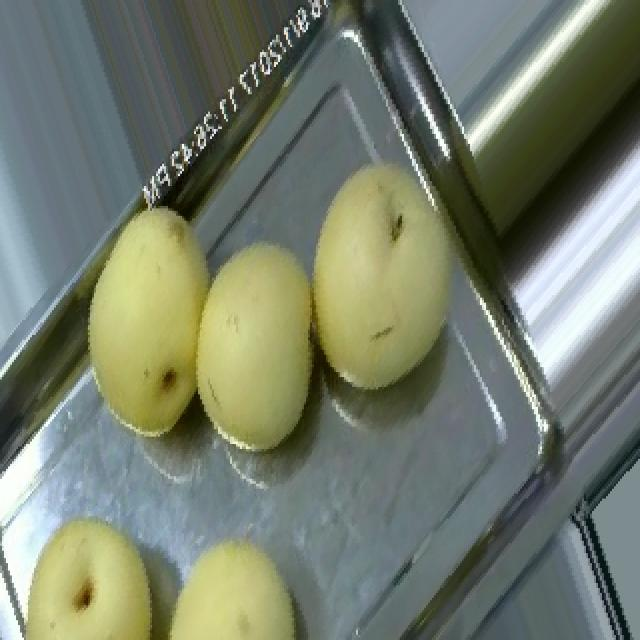Fruit: (52, 176, 250, 459), (298, 136, 490, 410), (178, 211, 338, 474), (2, 501, 176, 640), (146, 518, 326, 640)
